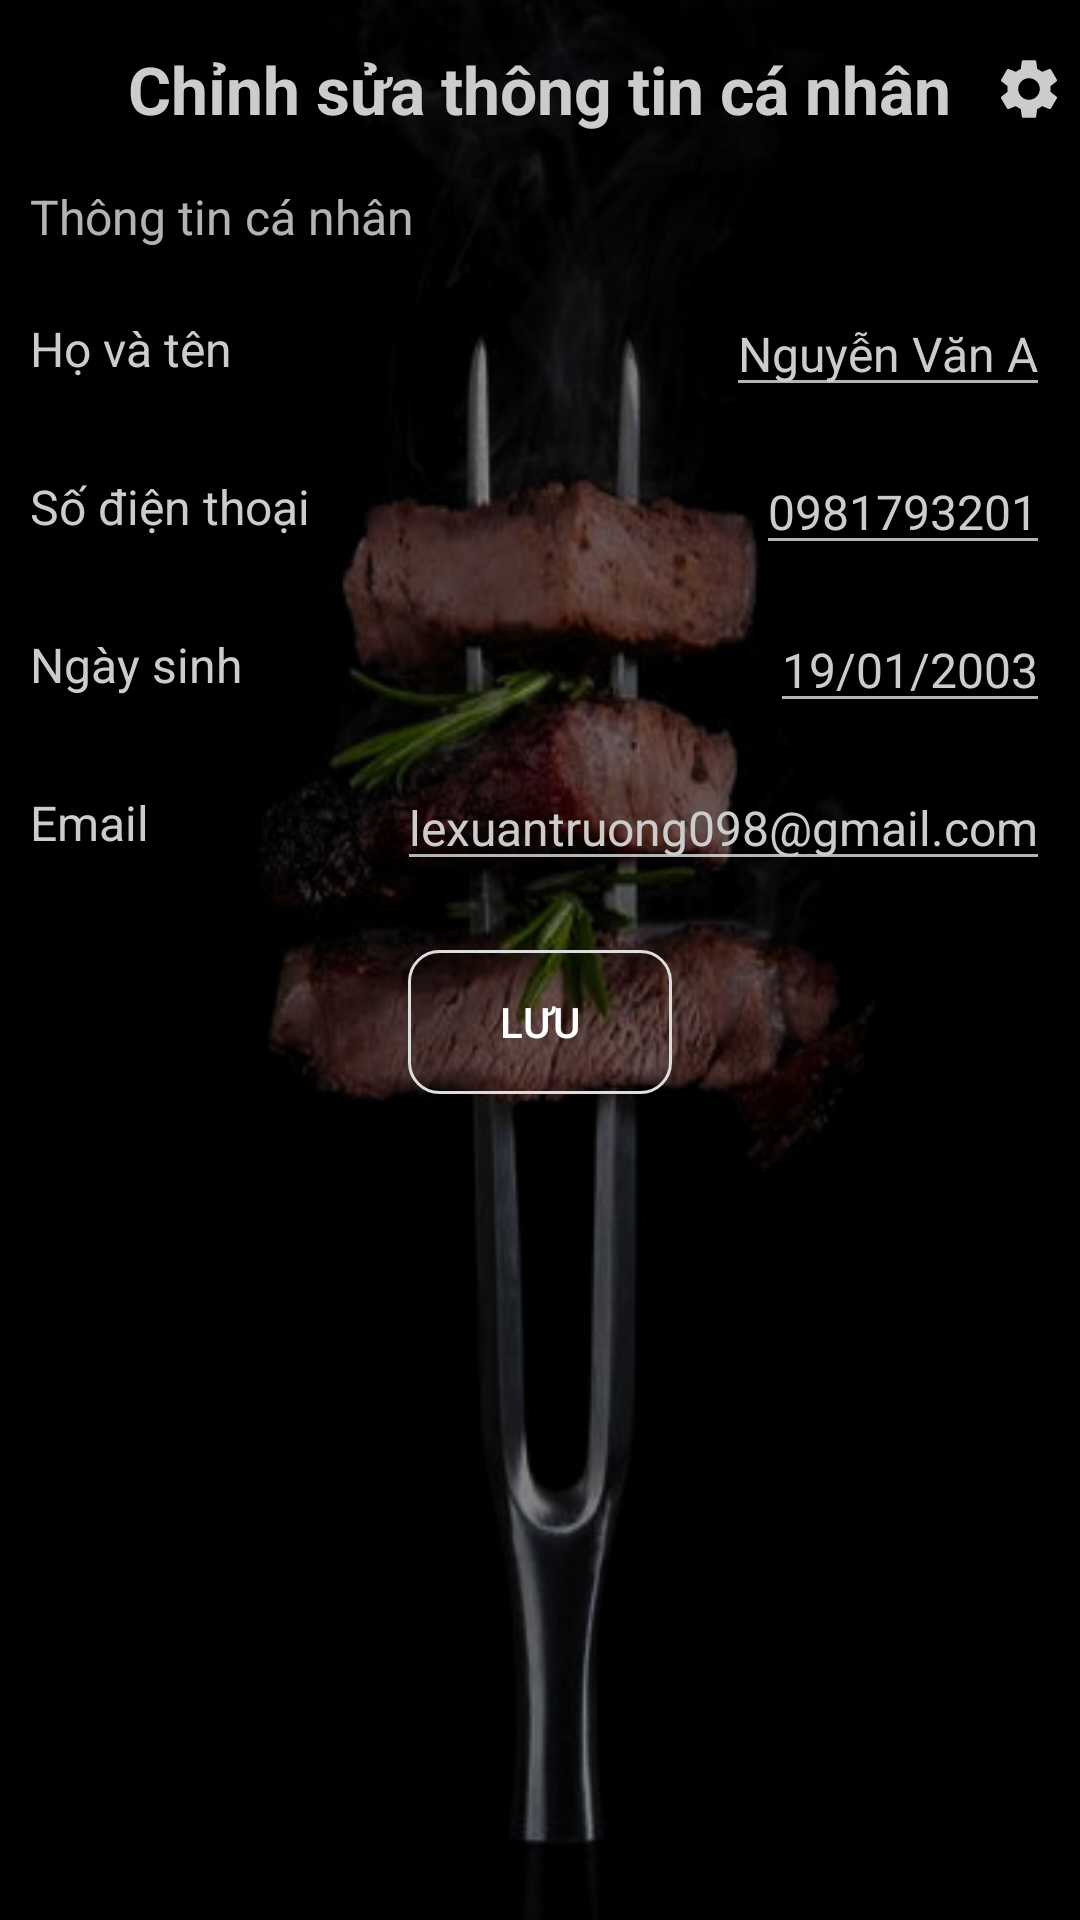

Where to tap for icons on this 1080px×1920px app screen, as (x,y):
settings: (1029,89)
